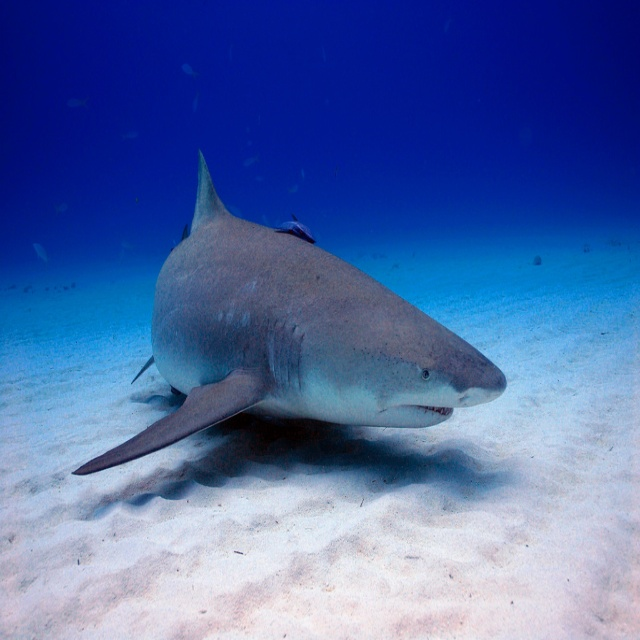Shark: (68, 143, 503, 476)
